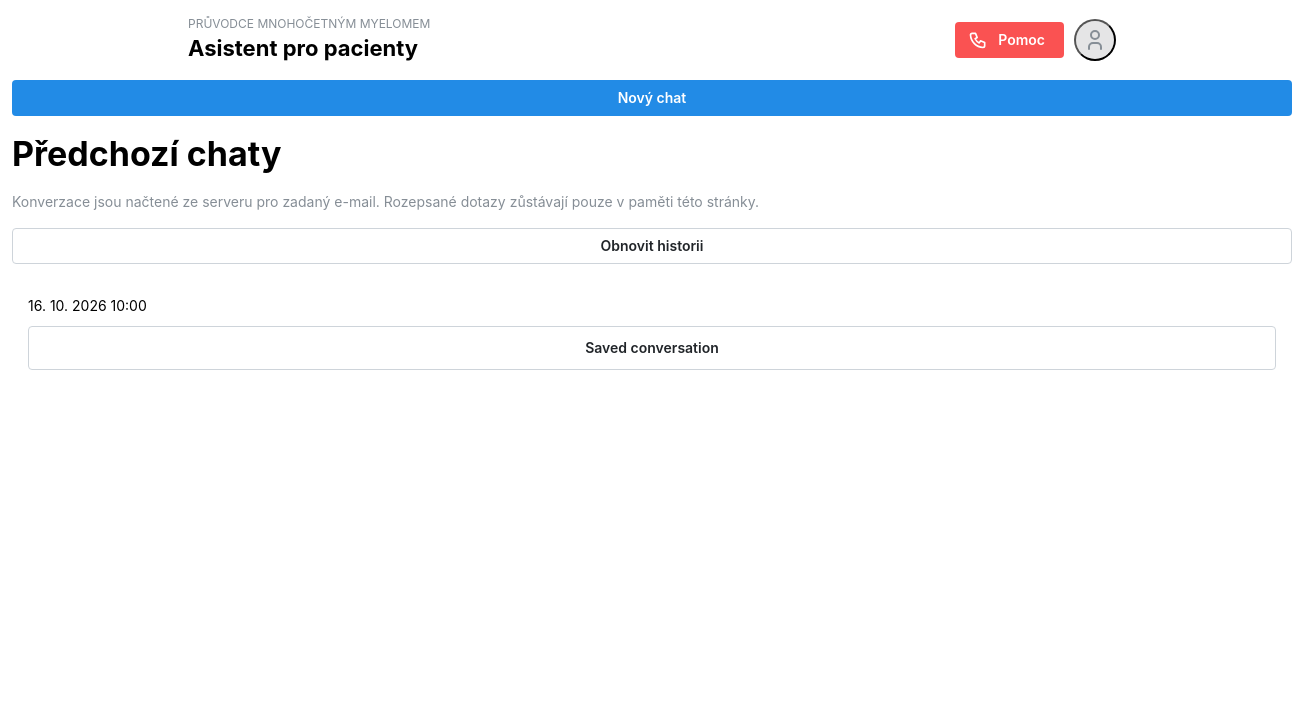
connected patient chat › scrolls to the bottom after a saved chat finishes loading
The width and height of the screenshot is (1304, 720).
Step 1. Click the button "Saved conversation" → (652, 348), box left=28, top=326, right=1276, bottom=370
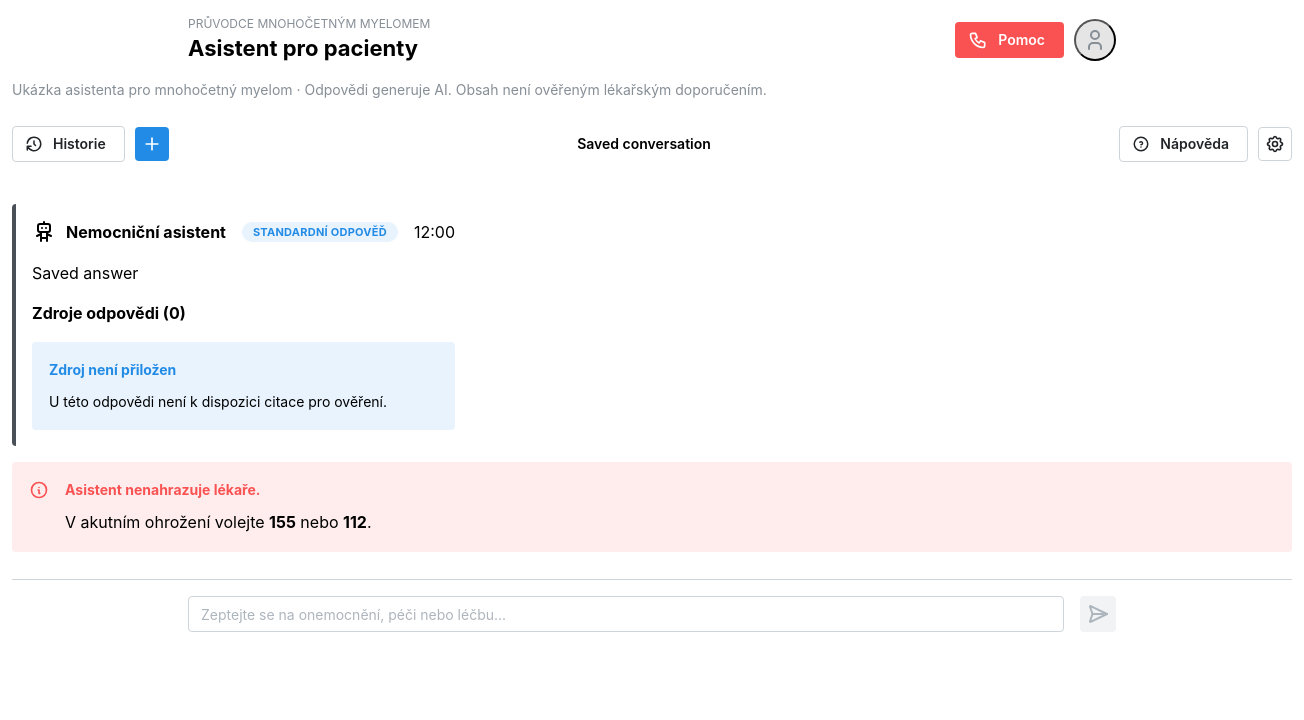
Result: the text "Saved answer" is shown at left=32, top=263, right=138, bottom=283
